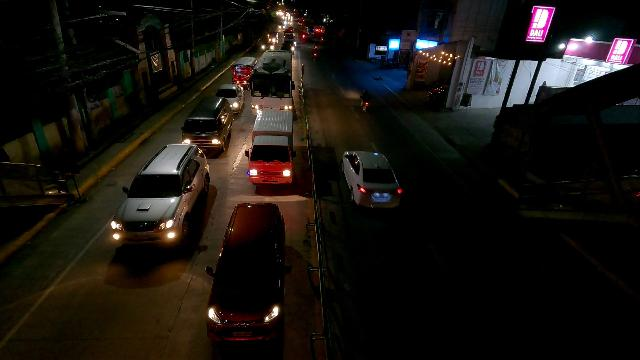bus: (250, 50, 293, 116)
car: (204, 199, 292, 344), (108, 142, 210, 249), (341, 147, 404, 214), (215, 84, 244, 113), (261, 41, 274, 52)
jeepney: (231, 56, 257, 87), (267, 31, 279, 43)
motorcycle: (360, 89, 370, 113), (313, 48, 317, 59), (314, 43, 318, 52)
van: (245, 109, 296, 186), (180, 95, 232, 154)
